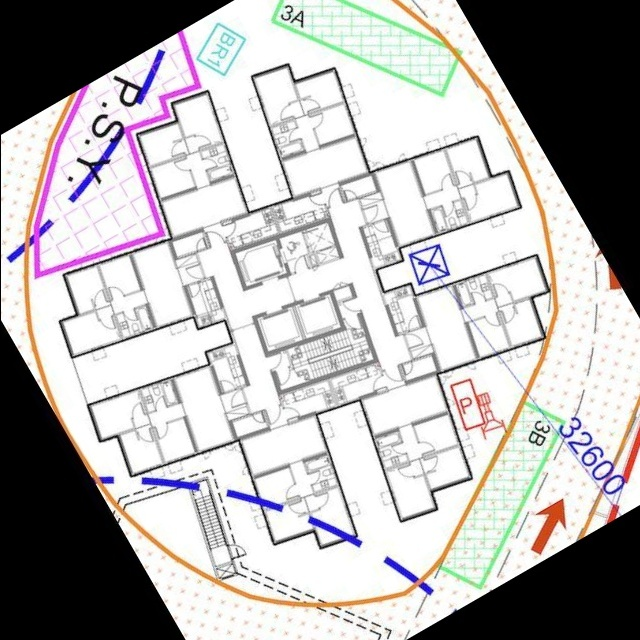tower_crane: (405, 244, 455, 287)
